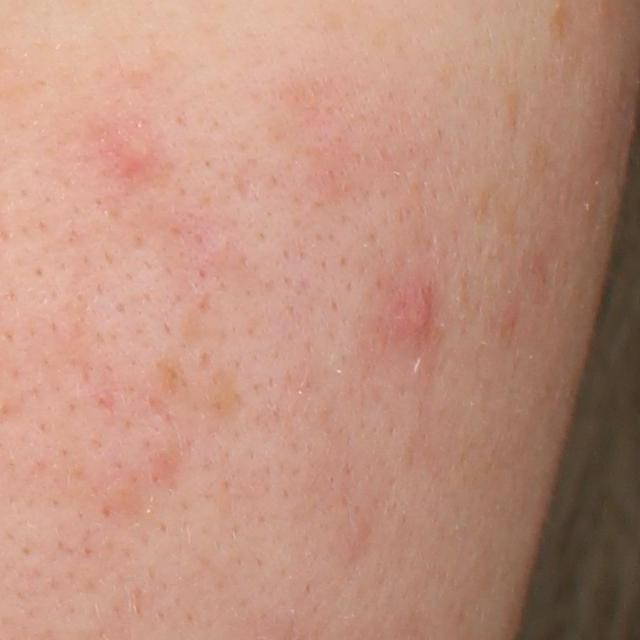papule: (399, 280, 436, 340)
